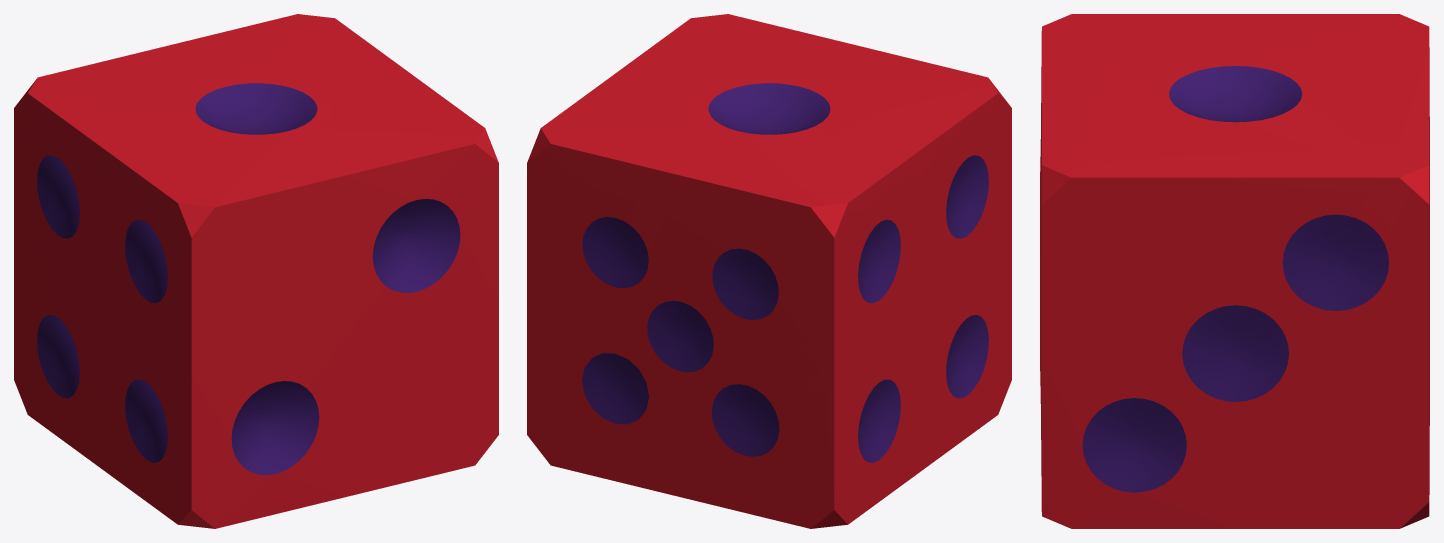
Rendered from Dice_Red.fbx.
The picture shows the model from 3 angles, left to right: view 1: azimuth 30°, elevation 25°; view 2: azimuth 150°, elevation 25°; view 3: azimuth 270°, elevation 25°; orthographic projection. The views are drawn at different scales.
Parts seen in each view (by area): view 1: Dice_Red; view 2: Dice_Red; view 3: Dice_Red.
Boxes of the visible parts, x1,y1,x2,y2 form: Dice_Red: [14, 14, 498, 528]; Dice_Red: [527, 14, 1011, 528]; Dice_Red: [1040, 14, 1429, 528].
Size of the model in its own units: 110 by 111 by 111.
